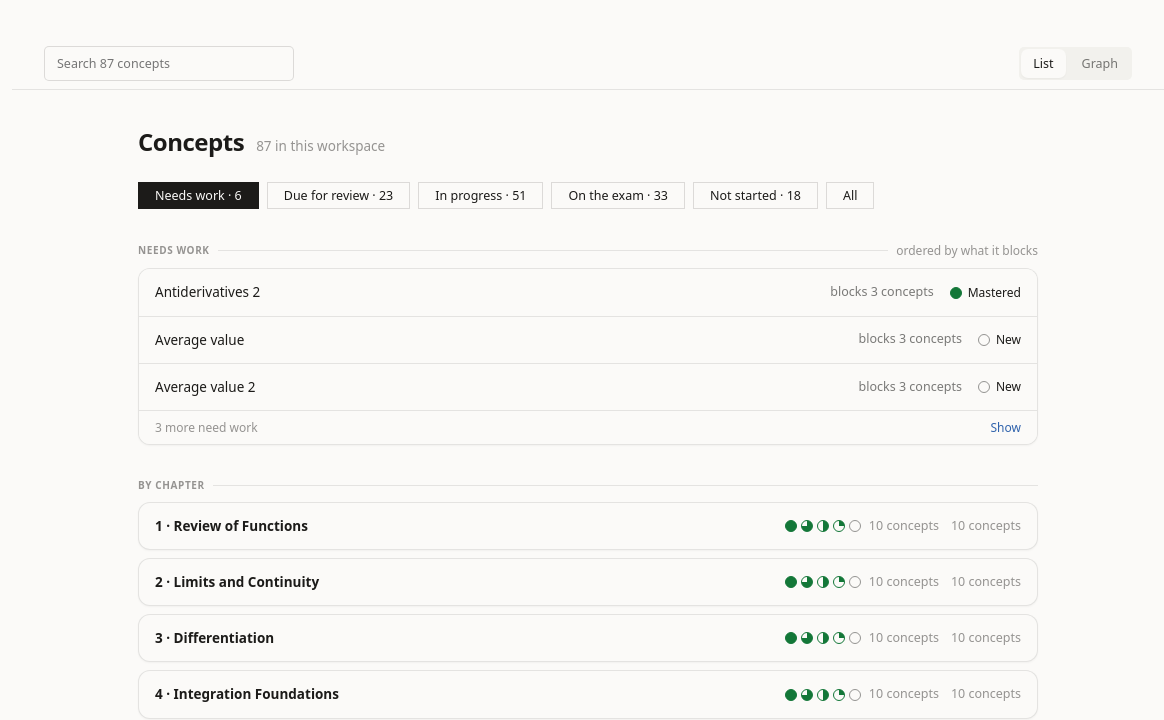
Test case: ConceptsListPage › opens a concept through the shared ConceptRow
What coordinates should you click on to do the following:
click the button "Antiderivatives 2 blocks 3 concepts Mastered"
I would click on:
 (208, 292)
Its box is [139,269,1037,316].
(page scrolled)
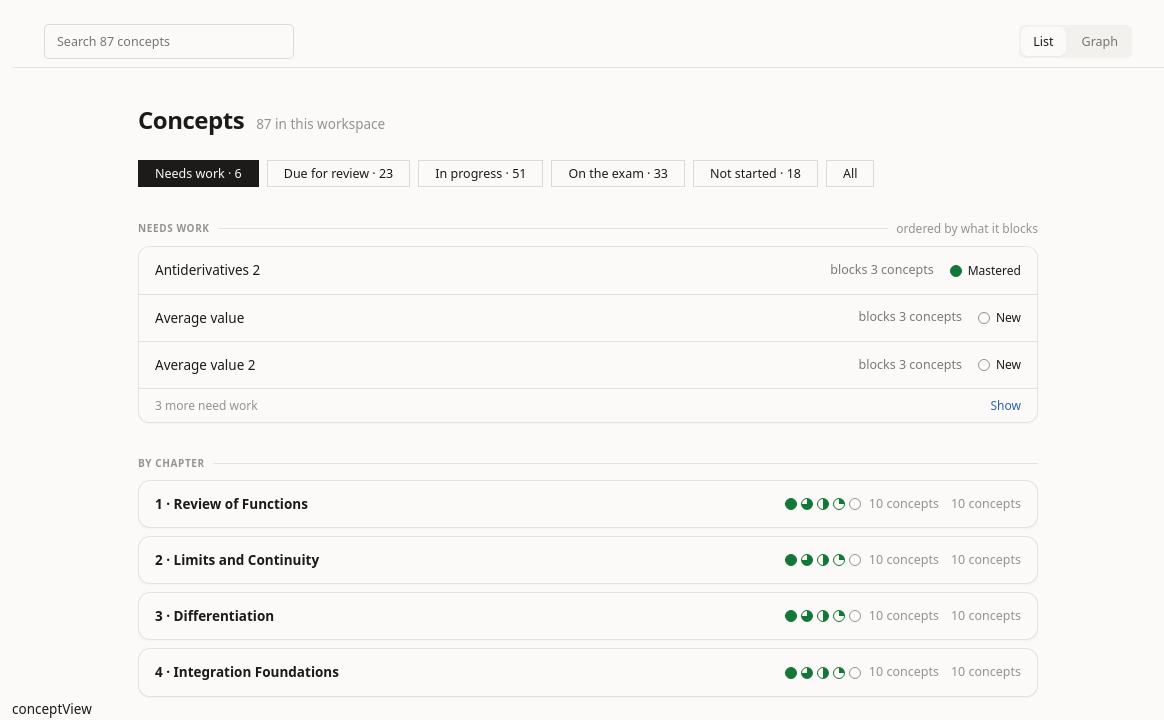
Now the text named "Current route" reads "conceptView", box [12,700,92,718]
